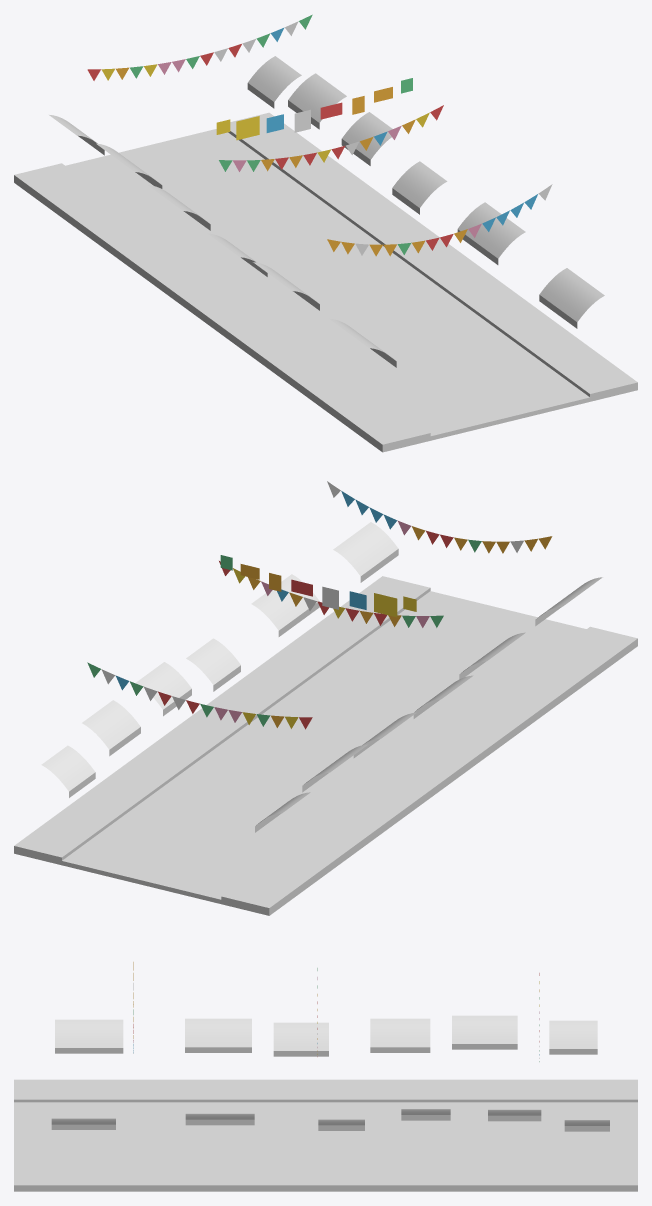
Rendered from Harita_10_Mahalle_Kilimciler_Ozel.fbx.
The picture shows the model from 3 angles, top to bottom: view 1: azimuth 30°, elevation 25°; view 2: azimuth 150°, elevation 25°; view 3: azimuth 270°, elevation 25°; orthographic projection. The views are drawn at different scales.
Parts seen in each view (by area): view 1: Harita_10_Yol.001, Harita_10_Kaldirim_L.001, Harita_10_Kaldirim_R.001, Camasirlar.010, Tente.155, Tente.156, Bayraklar.038, Bayraklar.040, Bayraklar.039, Tente.159, Tente.157, Tente.160 (+1 smaller); view 2: Harita_10_Yol.001, Harita_10_Kaldirim_L.001, Harita_10_Kaldirim_R.001, Camasirlar.010, Tente.155, Tente.156, Tente.159, Bayraklar.038, Bayraklar.040, Tente.157, Tente.160, Bayraklar.039 (+1 smaller); view 3: Harita_10_Yol.001, Harita_10_Kaldirim_R.001, Harita_10_Kaldirim_L.001, Tente.149, Tente.150, Tente.153, Tente.152, Tente.151, Tente.154, Tente.156, Tente.155, Tente.159 (+3 smaller).
Boxes of the visible parts, box(x1,y1,x2,y2) form: Harita_10_Yol.001: box(65, 129, 589, 440); Harita_10_Kaldirim_L.001: box(14, 163, 430, 452); Harita_10_Kaldirim_R.001: box(228, 112, 637, 401); Camasirlar.010: box(216, 78, 412, 140); Tente.155: box(539, 268, 604, 328); Tente.156: box(457, 202, 525, 264); Bayraklar.038: box(327, 184, 552, 256); Bayraklar.040: box(87, 14, 312, 80); Bayraklar.039: box(219, 105, 443, 171); Tente.159: box(288, 73, 346, 129); Tente.157: box(392, 161, 447, 214); Tente.160: box(247, 56, 301, 108); Harita_10_Yol.001: box(62, 591, 586, 903); Harita_10_Kaldirim_L.001: box(221, 626, 637, 915); Harita_10_Kaldirim_R.001: box(14, 576, 430, 865); Camasirlar.010: box(220, 555, 416, 617); Tente.155: box(333, 522, 398, 582); Tente.156: box(251, 574, 319, 636); Tente.159: box(82, 700, 140, 756); Bayraklar.038: box(327, 481, 552, 553); Bayraklar.040: box(87, 662, 312, 729); Tente.157: box(186, 638, 240, 691); Tente.160: box(41, 745, 95, 797); Bayraklar.039: box(219, 561, 443, 627); Harita_10_Yol.001: box(14, 1102, 637, 1165); Harita_10_Kaldirim_R.001: box(14, 1165, 637, 1191); Harita_10_Kaldirim_L.001: box(14, 1079, 637, 1102); Tente.149: box(55, 1019, 123, 1053); Tente.150: box(185, 1018, 251, 1052); Tente.153: box(452, 1015, 517, 1049); Tente.152: box(370, 1018, 430, 1052); Tente.151: box(273, 1022, 328, 1056); Tente.154: box(549, 1020, 597, 1054); Tente.156: box(185, 1113, 254, 1125); Tente.155: box(51, 1118, 115, 1129); Tente.159: box(488, 1109, 541, 1121).
Bounding box in the file's own units: 12 × 8.15 × 30.
